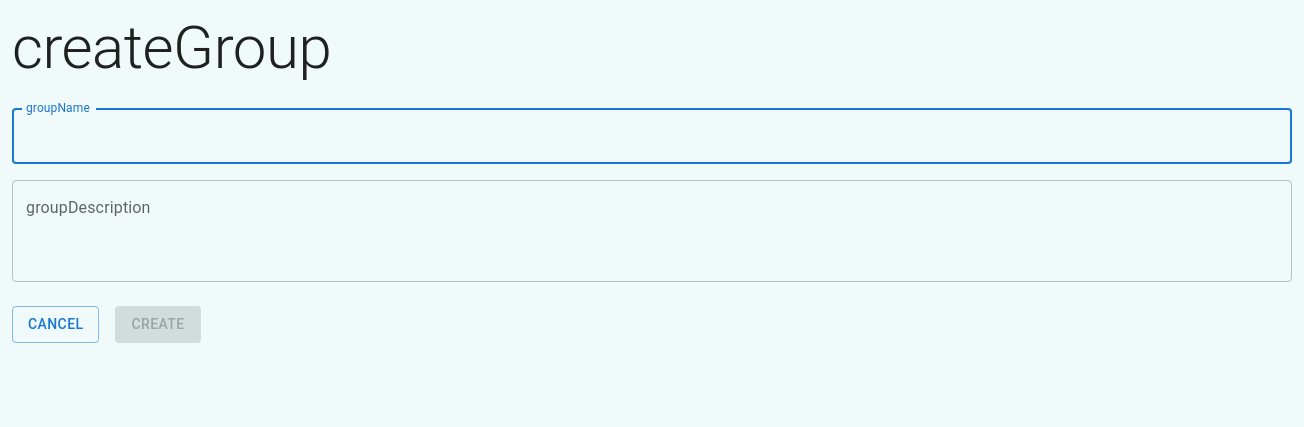
Test case: NewGroupPage › shows error when group creation fails
Type "Family" into the field labelled "groupName". click: [652, 136]
box: [12, 108, 1292, 164]
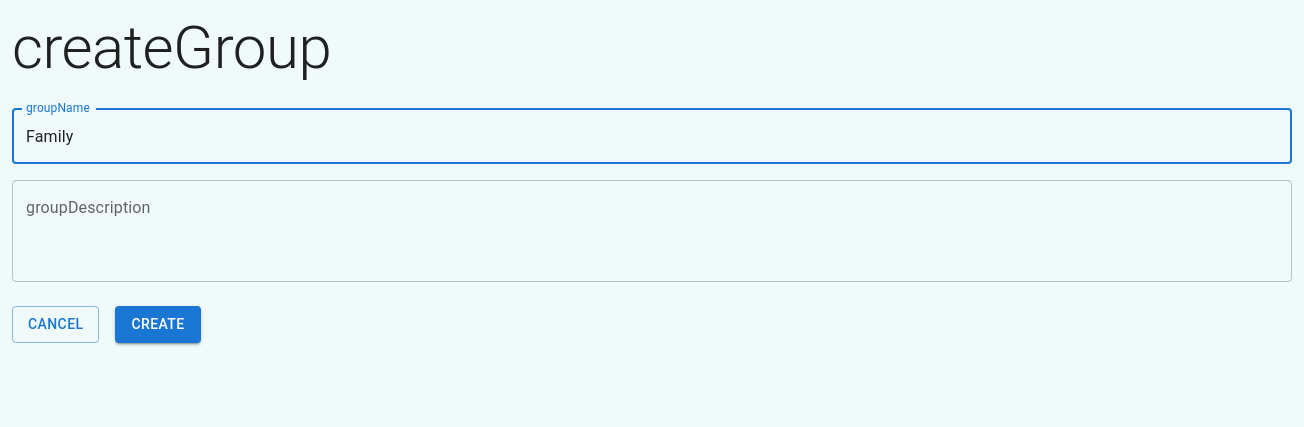
Click the button "create". click: [158, 324]
box: [116, 306, 201, 342]
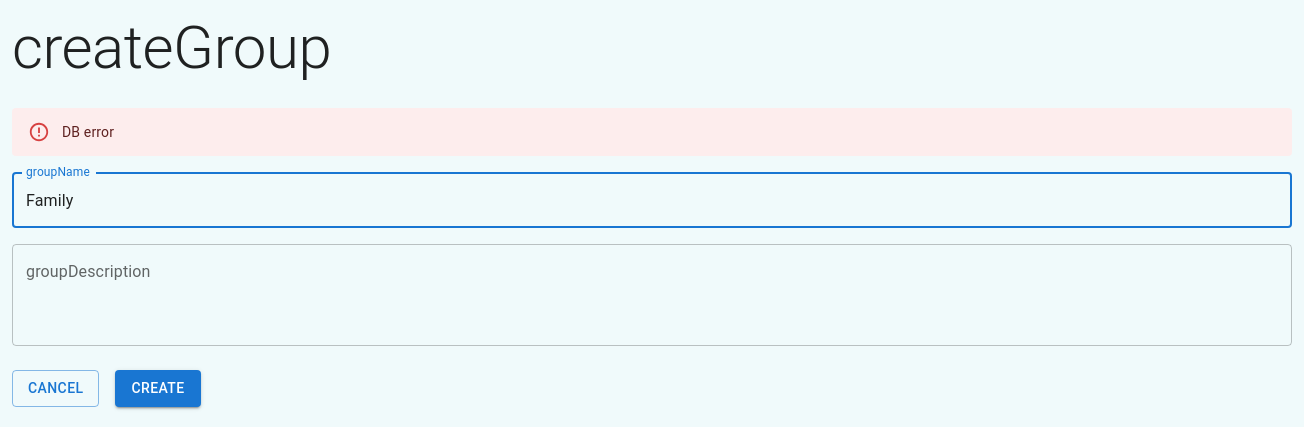
expect the text "DB error" is shown: met, box [62, 124, 114, 140]
